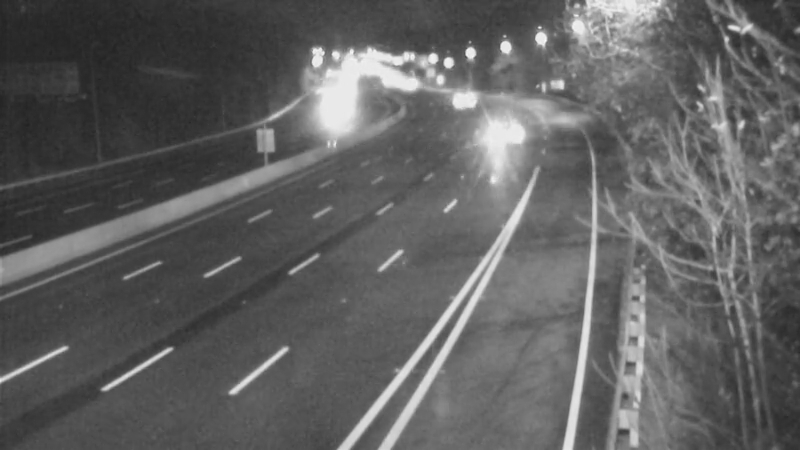vehicle: (434, 73, 484, 123), (471, 108, 521, 158)
